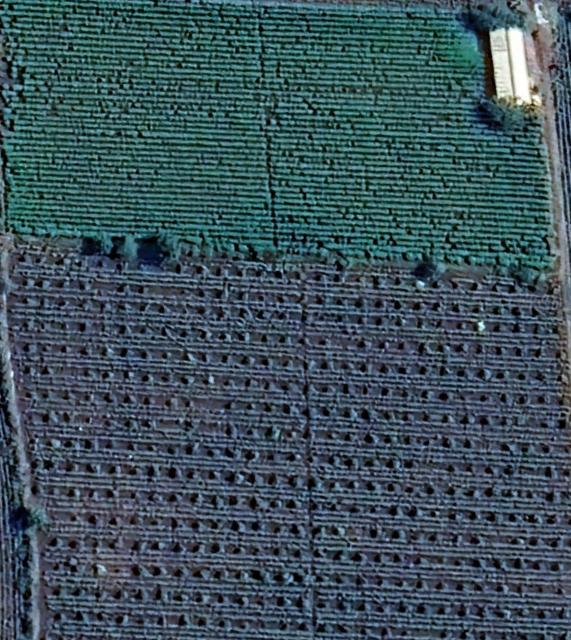Farms: (4, 245, 571, 640), (0, 0, 550, 275)
